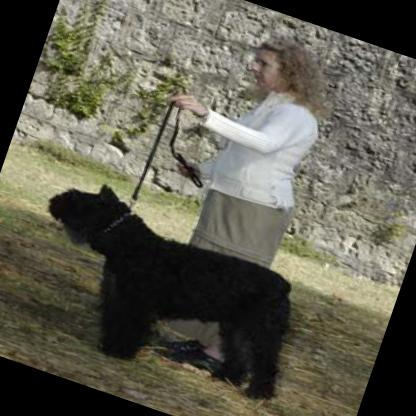Bouvier_des_Flandres: (5, 167, 322, 414)
